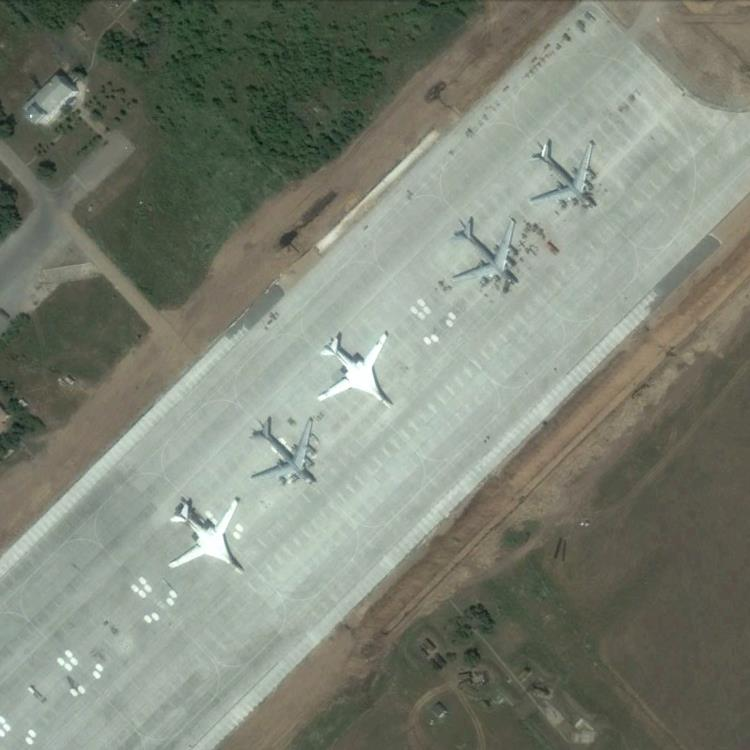A17: (526, 136, 601, 212), (250, 416, 319, 489), (451, 215, 519, 289)
A6: (168, 497, 244, 578), (317, 331, 392, 407)
